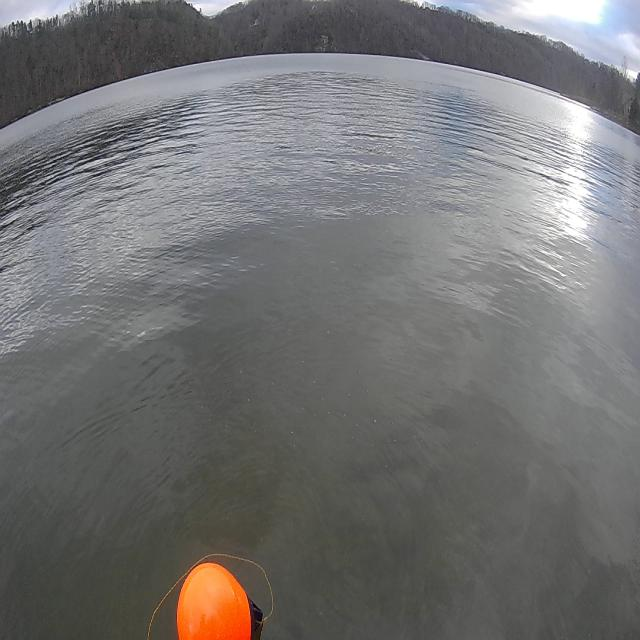Buoy: (176, 558, 252, 640)
